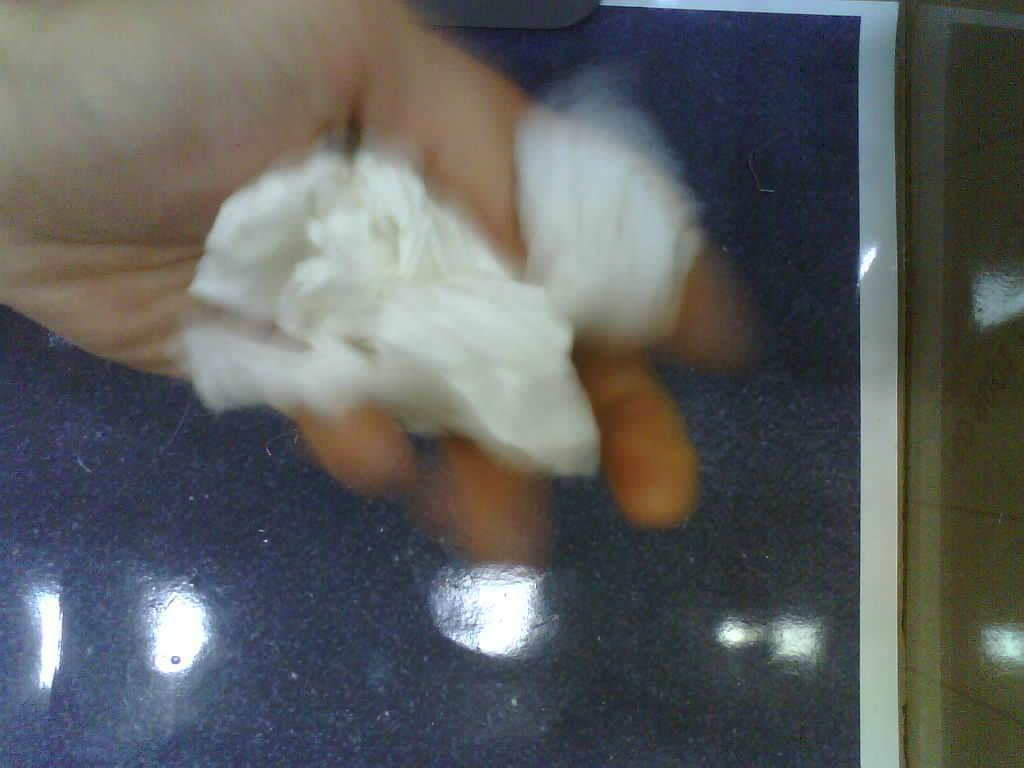paper: (182, 74, 704, 484)
